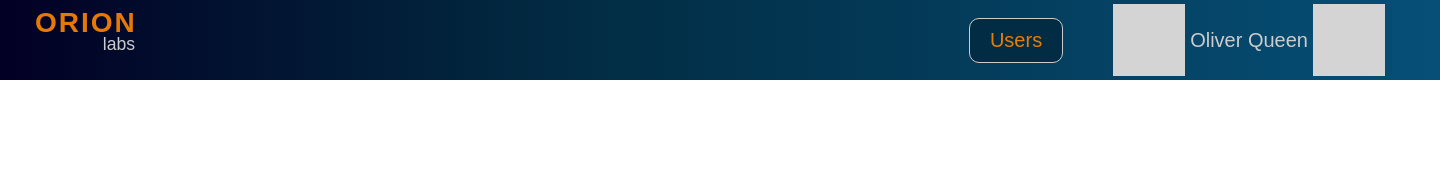
it: Nav component › closes dropdown menu when the user's name is clicked a second time
Click the text "Oliver Queen": (1249, 40) [1190,28,1308,52]
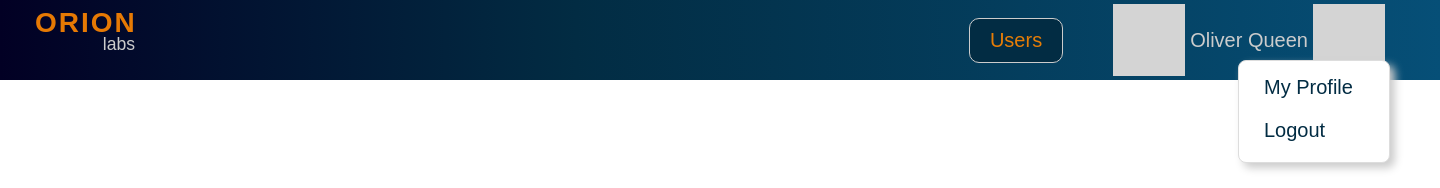
Click the text "Oliver Queen": (1249, 40) [1190,28,1308,52]
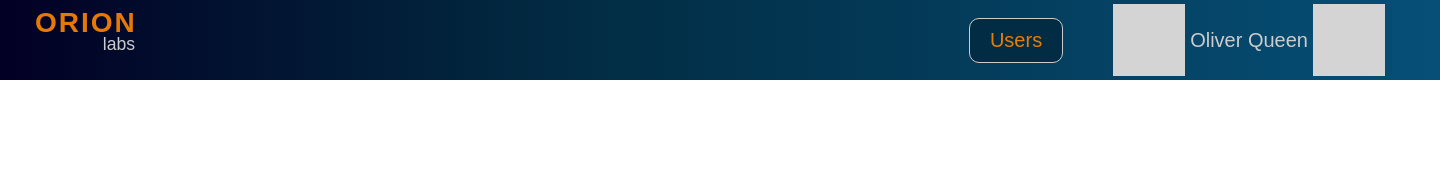
Expected: the link "My Profile" is gone
Expected: the text "Logout" is gone
